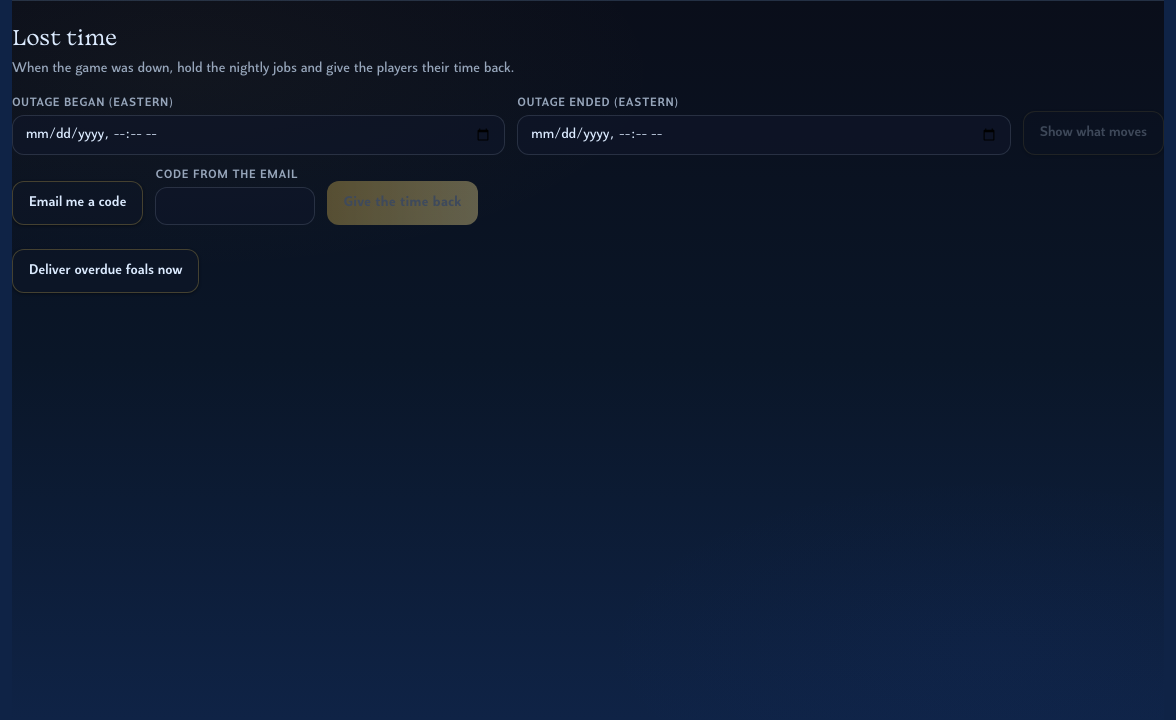
Test: StaffOutage › gives the time back with an emailed code; the new entry appears in the list
In the field labelled "Outage began (Eastern)": (259, 135) x1=12 y1=115 x2=505 y2=155, type "2026-11-15T09:00"
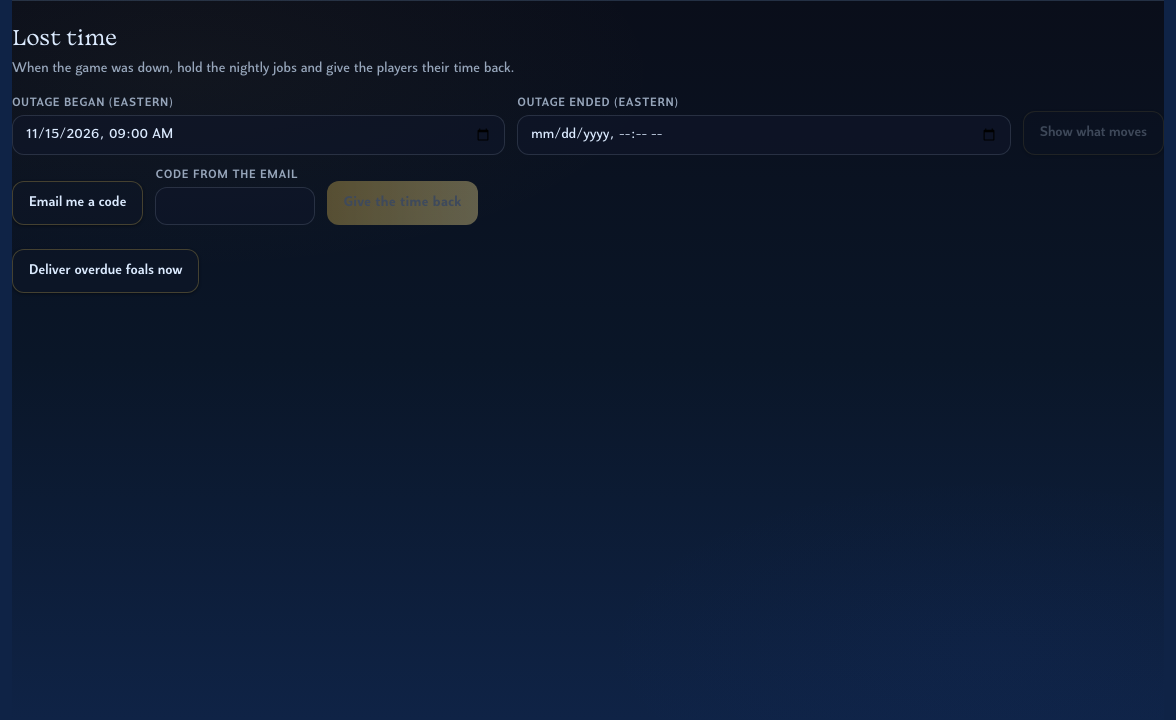
In the field labelled "Outage ended (Eastern)": (764, 135) x1=517 y1=115 x2=1011 y2=155, type "2026-11-17T09:00"
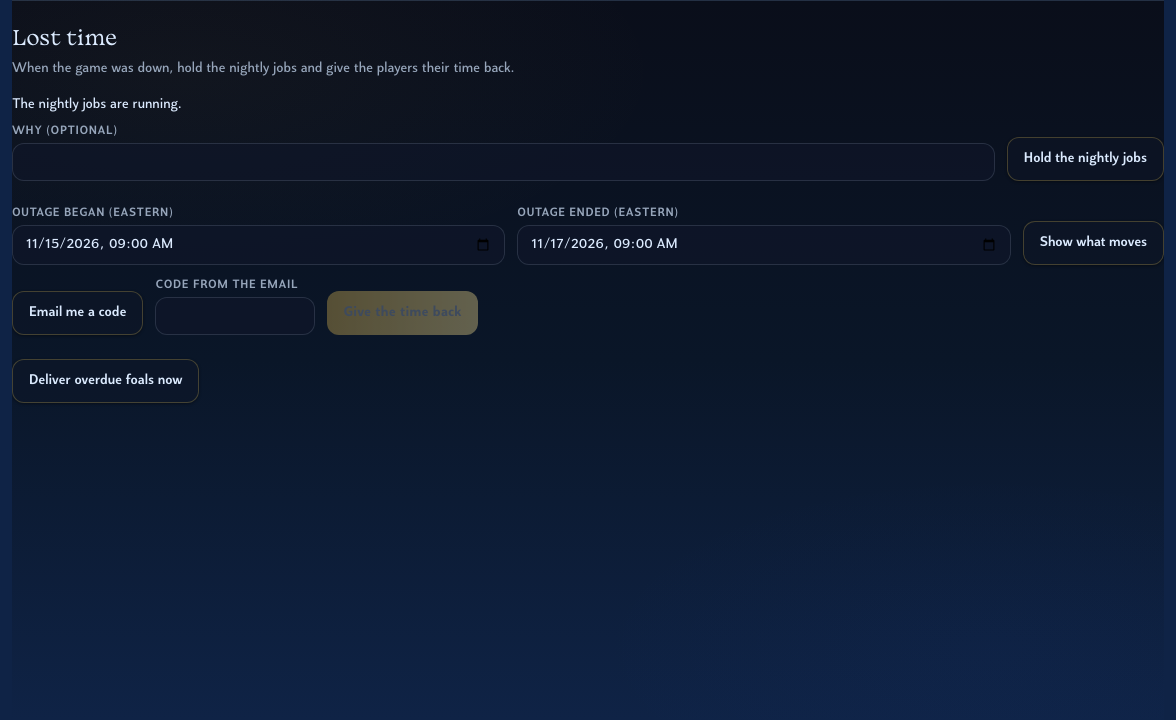
Expected: the button "Give the time back" is disabled, x1=328 y1=291 x2=478 y2=335
Click the button "Email me a code": (78, 313) x1=12 y1=291 x2=144 y2=335
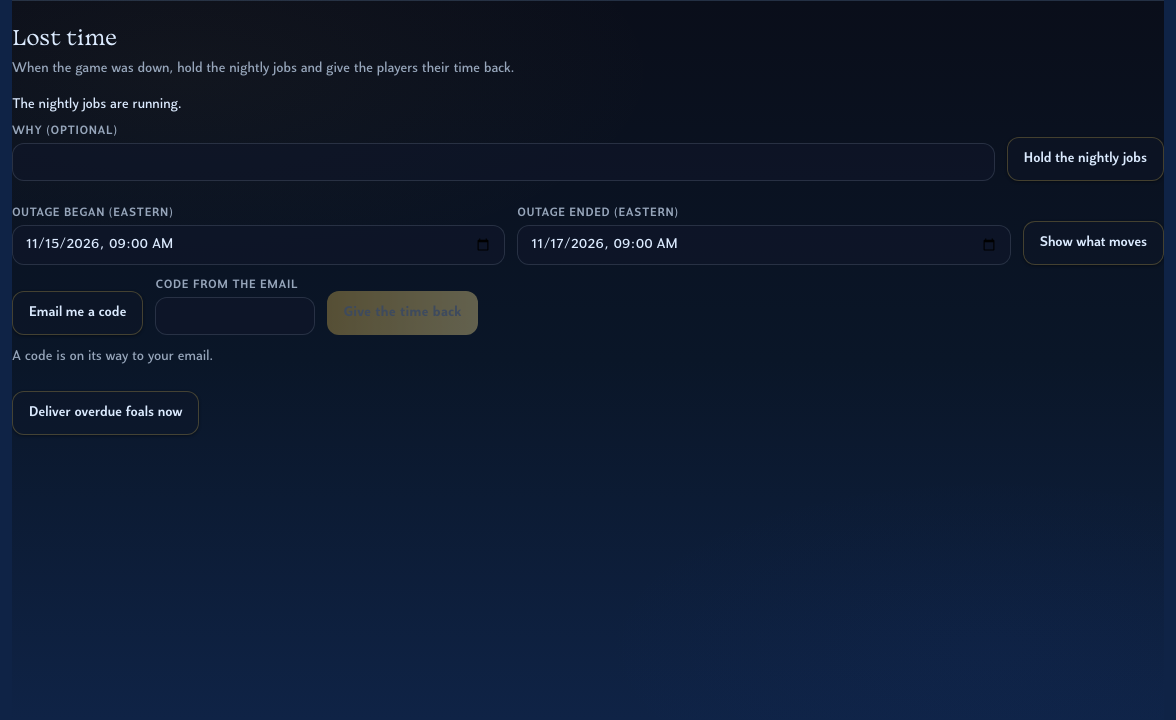
Expected: the text "A code is on its way to your email." is shown, x1=12 y1=349 x2=213 y2=364
In the field labelled "Code from the email": (236, 316) x1=156 y1=297 x2=316 y2=335, type "123456"
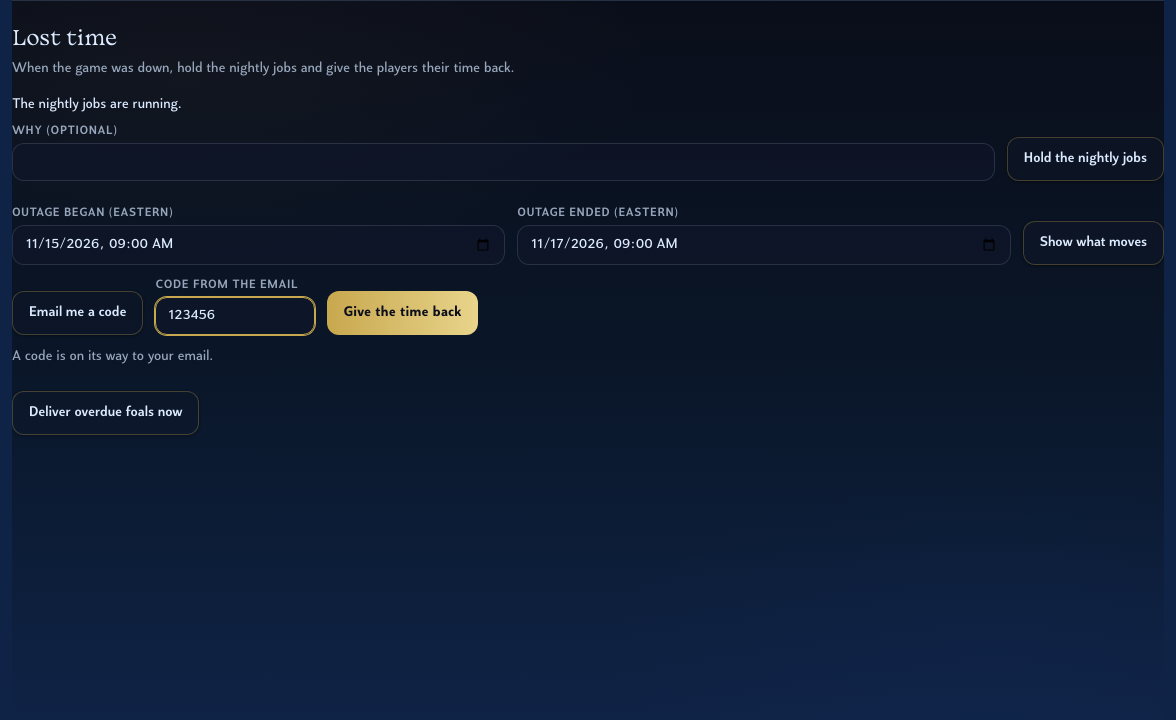
Click the button "Give the time back": (403, 313) x1=328 y1=291 x2=478 y2=335
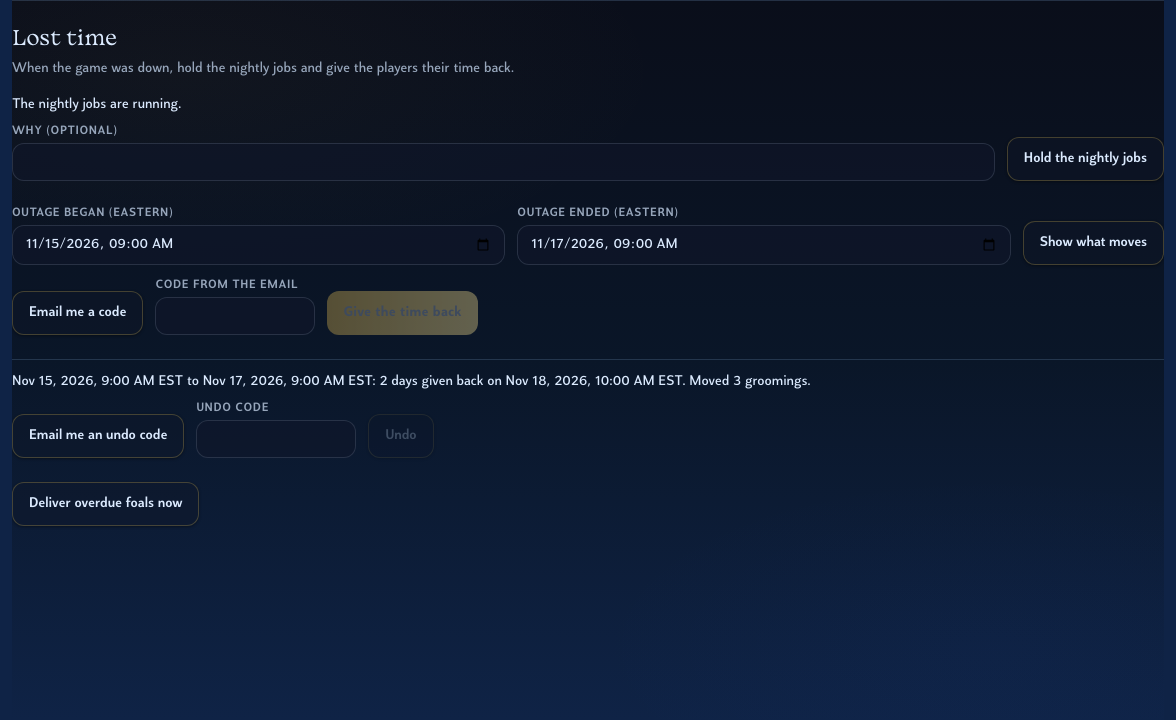
Expected: the text "given back on" is shown, x1=422 y1=374 x2=506 y2=389
Expected: the text "Moved 3 groomings." is shown, x1=686 y1=374 x2=811 y2=389
